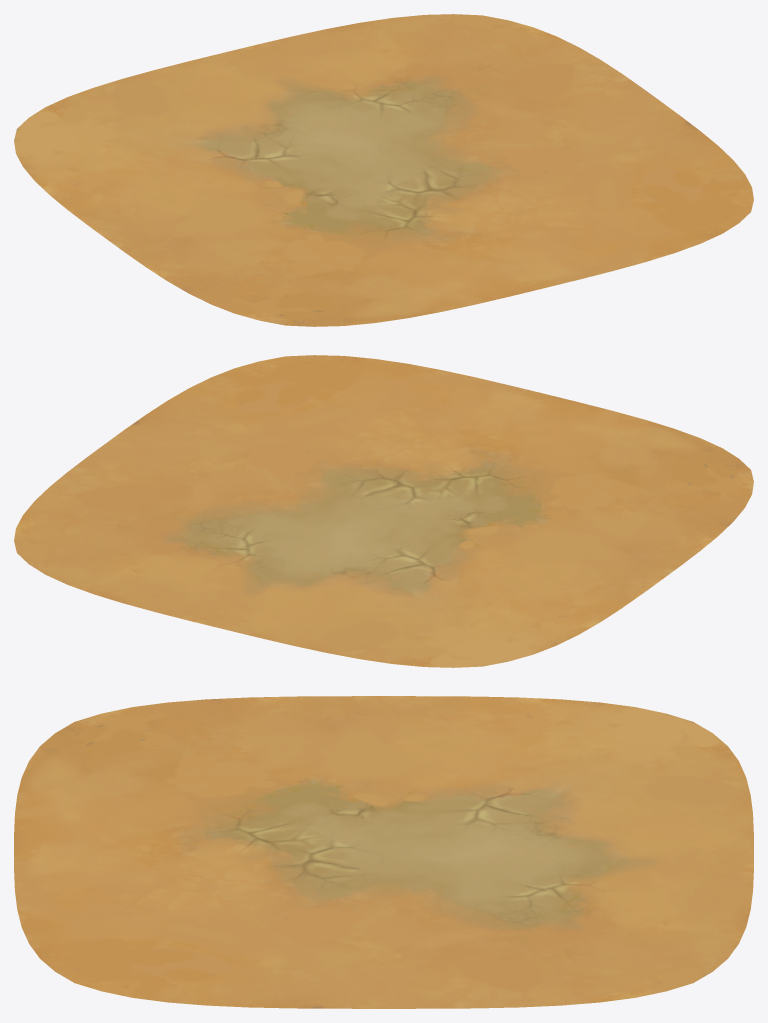
Rendered from Sandground scene 2.fbx.
The picture shows the model from 3 angles, top to bottom: view 1: azimuth 30°, elevation 25°; view 2: azimuth 150°, elevation 25°; view 3: azimuth 270°, elevation 25°; orthographic projection. The views are drawn at different scales.
Visible parts, largest first — view 1: Plane; view 2: Plane; view 3: Plane.
Part boxes in pixels (<box>): Plane: <box>14,14,753,326</box>; Plane: <box>14,355,753,667</box>; Plane: <box>14,696,753,1008</box>.
Size of the model in its own units: 3326 by 0.000542 by 3326.
